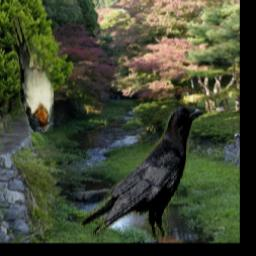Crow: (80, 106, 203, 242)
Swallow: (11, 17, 54, 133)
